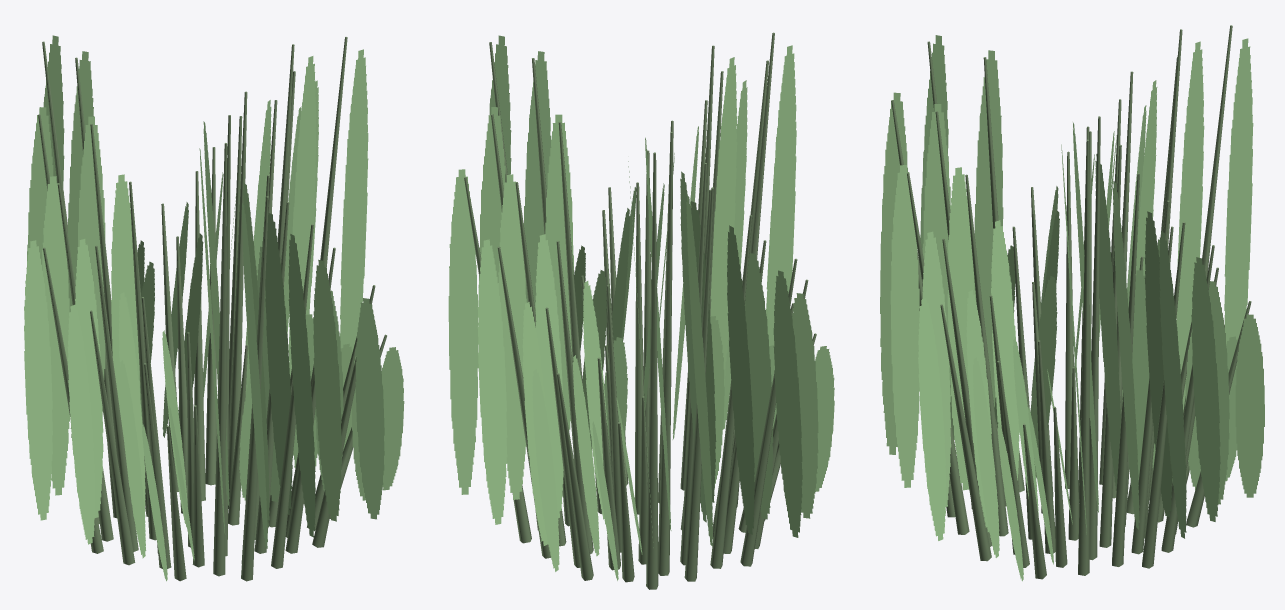
File: grass_tuft01.glb
The picture shows the model from 3 angles, left to right: view 1: azimuth 30°, elevation 25°; view 2: azimuth 150°, elevation 25°; view 3: azimuth 270°, elevation 25°; orthographic projection.
Visible parts, largest first — view 1: blades, stems; view 2: blades, stems; view 3: blades, stems.
Part boxes in pixels (x1,y1,x2,y2): blades: (24,35,404,581); stems: (38,37,386,581); blades: (448,35,834,580); stems: (464,32,816,589); blades: (880,35,1264,581); stems: (891,25,1251,579).
Bounding box in the file's own units: 0.4367 × 0.5667 × 0.4337.
2 materials, 1 textured.
